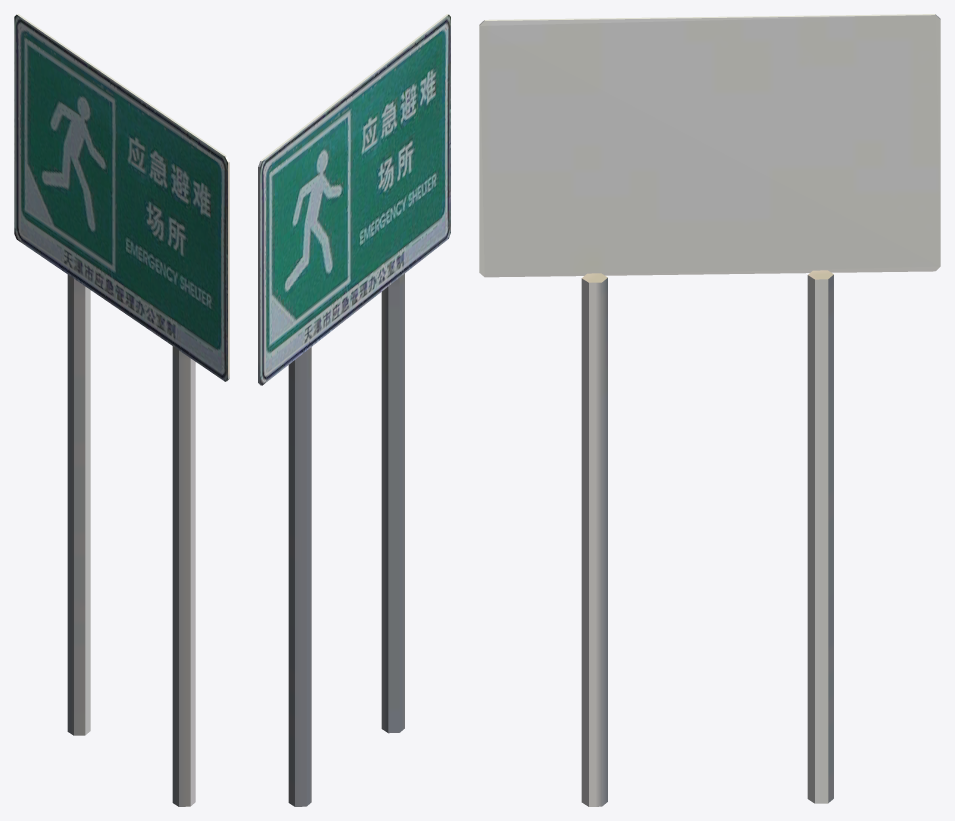
The model's file is pieces.gltf.
The picture shows the model from 3 angles, left to right: view 1: azimuth 30°, elevation 25°; view 2: azimuth 150°, elevation 25°; view 3: azimuth 270°, elevation 25°; orthographic projection. The views are drawn at different scales.
Parts seen in each view (by area): view 1: Node_a5e48f96-1313-47ea-a7d9-38011bbf69e6_0_0, Node_a5e48f96-1313-47ea-a7d9-38011bbf69e6_1_0; view 2: Node_a5e48f96-1313-47ea-a7d9-38011bbf69e6_0_0, Node_a5e48f96-1313-47ea-a7d9-38011bbf69e6_1_0; view 3: Node_a5e48f96-1313-47ea-a7d9-38011bbf69e6_1_0.
Part boxes in pixels (box(x1,y1,x2,y2)): Node_a5e48f96-1313-47ea-a7d9-38011bbf69e6_0_0: box(14, 14, 227, 381); Node_a5e48f96-1313-47ea-a7d9-38011bbf69e6_1_0: box(17, 14, 229, 806); Node_a5e48f96-1313-47ea-a7d9-38011bbf69e6_0_0: box(260, 14, 450, 385); Node_a5e48f96-1313-47ea-a7d9-38011bbf69e6_1_0: box(258, 14, 448, 806); Node_a5e48f96-1313-47ea-a7d9-38011bbf69e6_1_0: box(479, 14, 940, 806).
Size of the model in its own units: 0.135 by 3.27 by 1.76.
2 materials, 2 textured.
